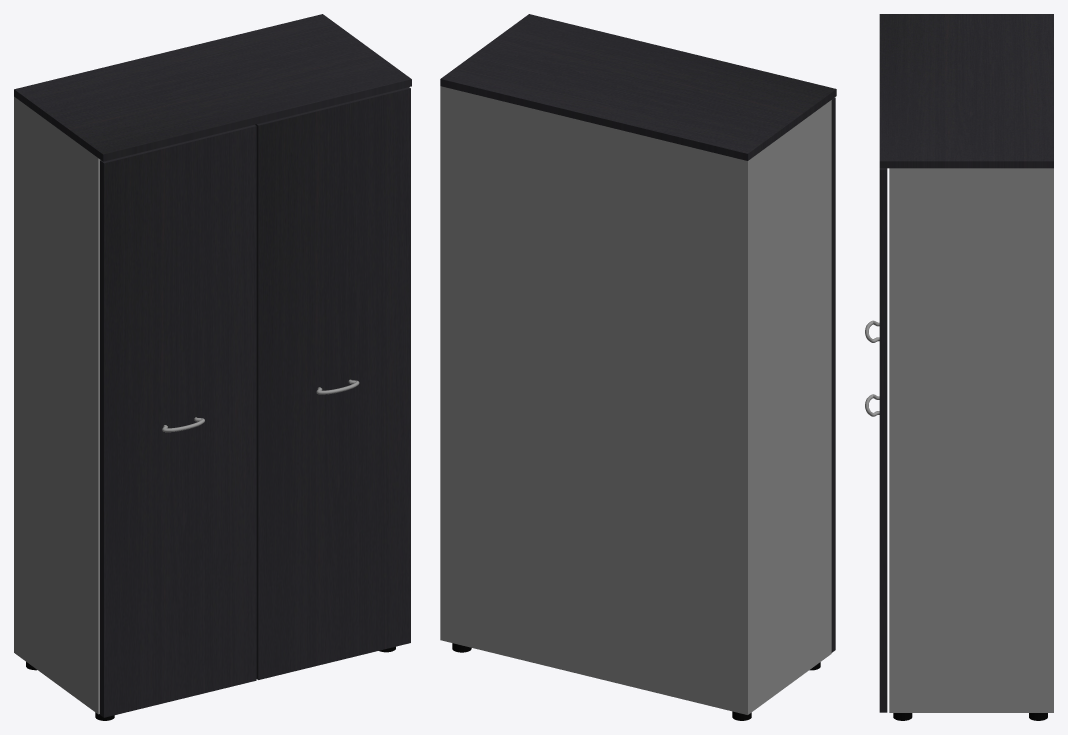
The model's file is mobile90160W.obj.
3 views of the same model, side by side, from view 1: azimuth 30°, elevation 25°; view 2: azimuth 150°, elevation 25°; view 3: azimuth 270°, elevation 25° (orthographic). The views are drawn at different scales.
Visible parts, largest first — view 1: Box45_4, Box44_3, Box47_6, Box46_5; view 2: Box47_6, Box46_5, Box45_4; view 3: Box47_6, Box46_5, Box44_3.
Boxes of the visible parts, x1,y1,x2,y2 form: Box45_4: (100, 124, 256, 717); Box44_3: (255, 87, 410, 679); Box47_6: (14, 96, 100, 714); Box46_5: (14, 14, 411, 161); Box47_6: (440, 86, 831, 714); Box46_5: (440, 14, 836, 160); Box45_4: (831, 97, 835, 652); Box47_6: (889, 168, 1053, 712); Box46_5: (879, 14, 1053, 168); Box44_3: (879, 168, 887, 712).
Bounding box in the file's own units: 90 × 160 × 48.75.
